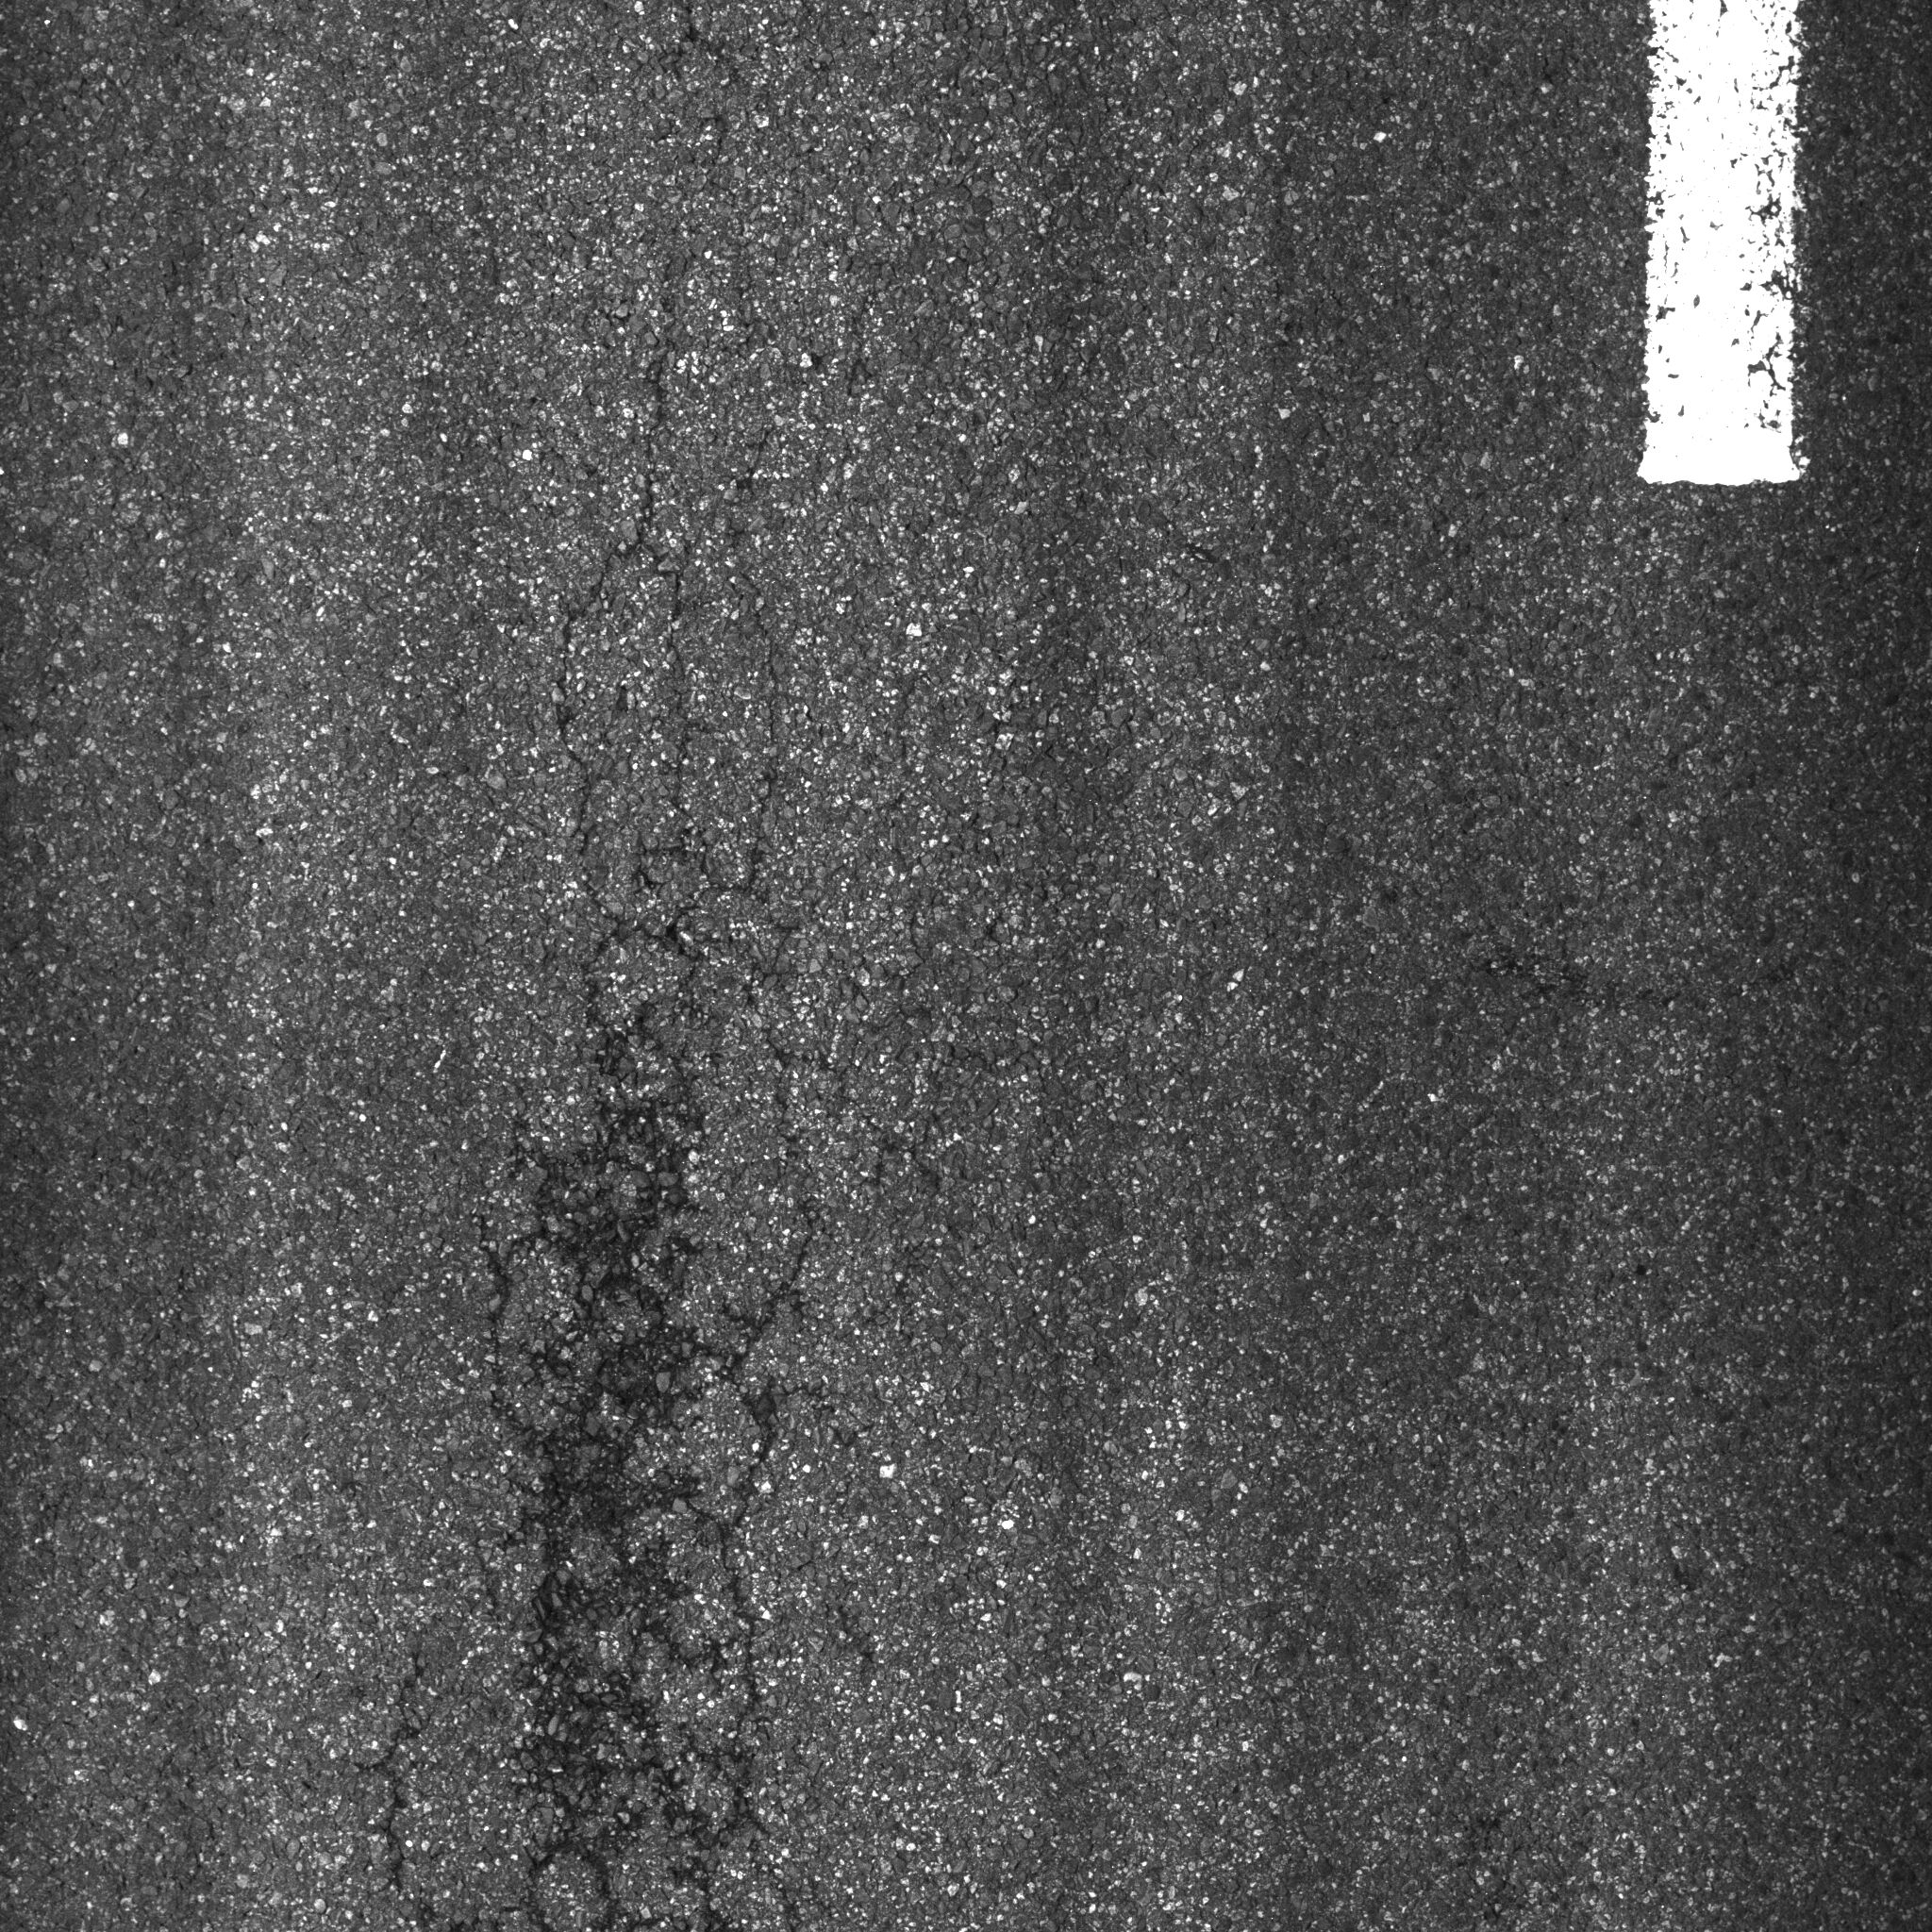alligator: (370, 27, 966, 1925)
